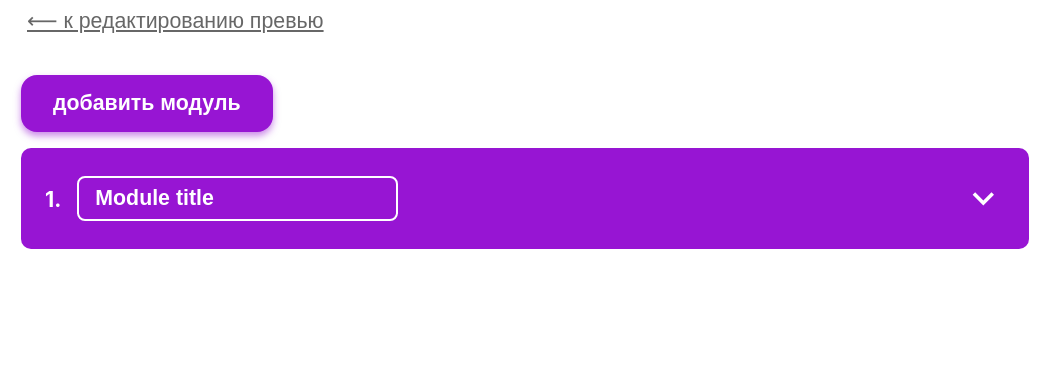
EditCourseHierarchy › shrinks module
The image size is (1046, 375).
Click the icon named "раскрыть" at {"x": 984, "y": 199}, box [962,177,1005,220]
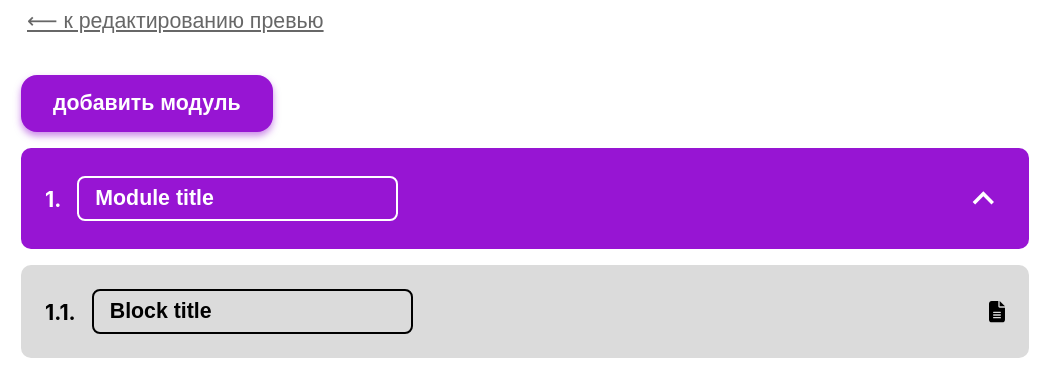
Click the icon named "скрыть" at {"x": 984, "y": 199}, box [962,177,1005,220]
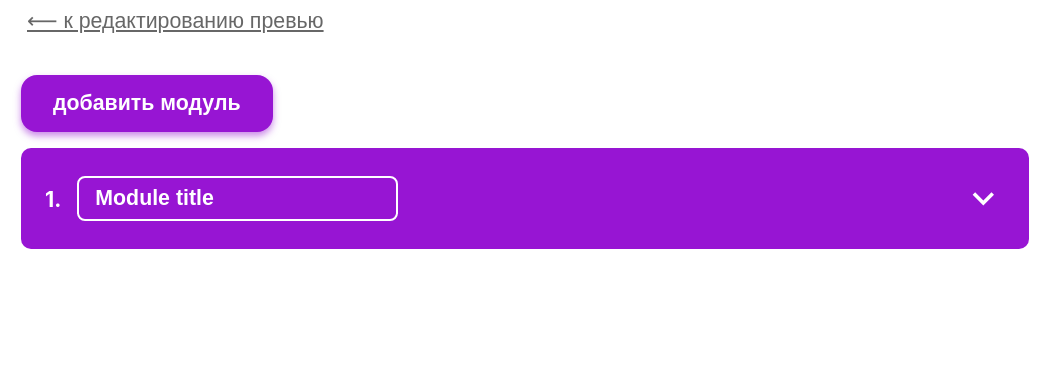
Check: the field with placeholder "название модуля" holds "Module title", box [77,176,398,221]
Check: the icon named "раскрыть" is shown, box [962,177,1005,220]
